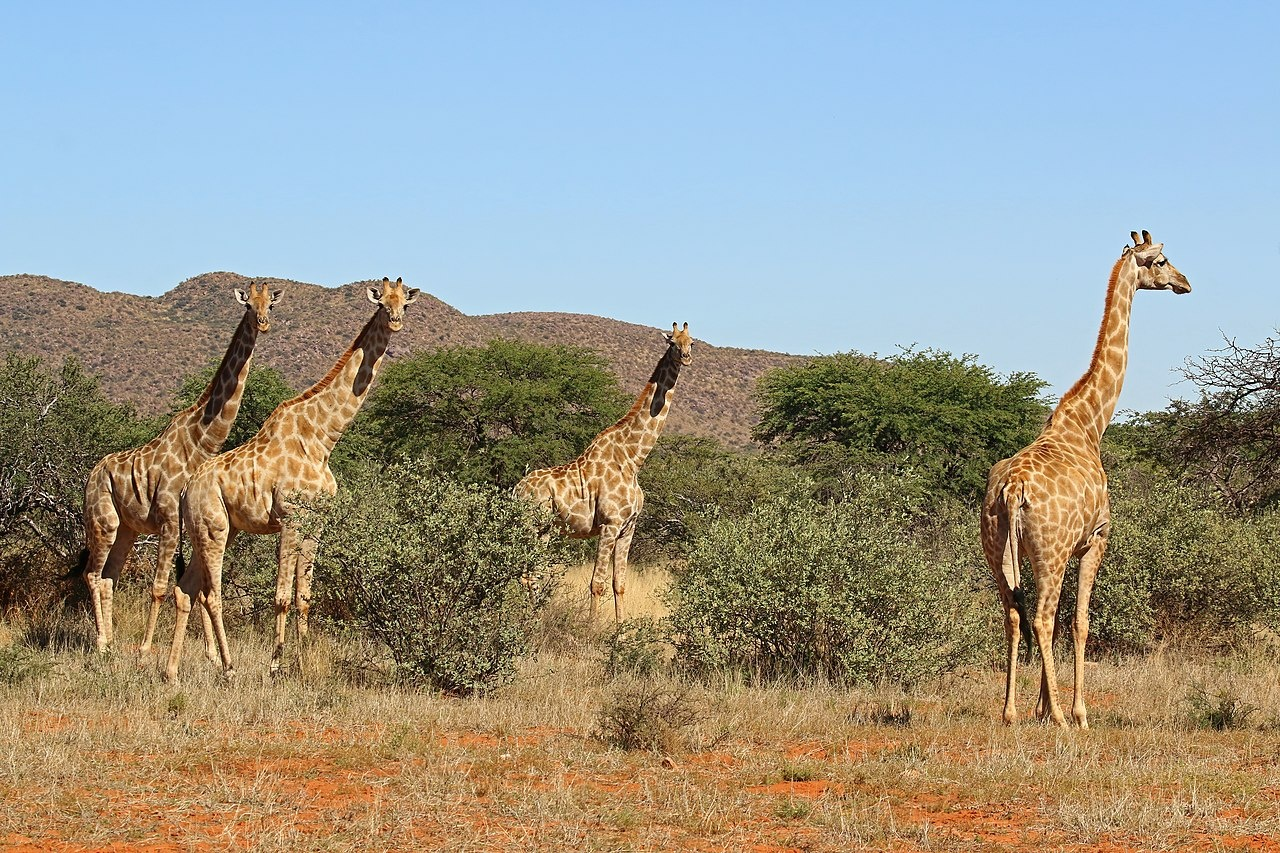giraffe: (159, 275, 430, 698), (977, 220, 1197, 735), (79, 273, 284, 693), (507, 318, 697, 654)
